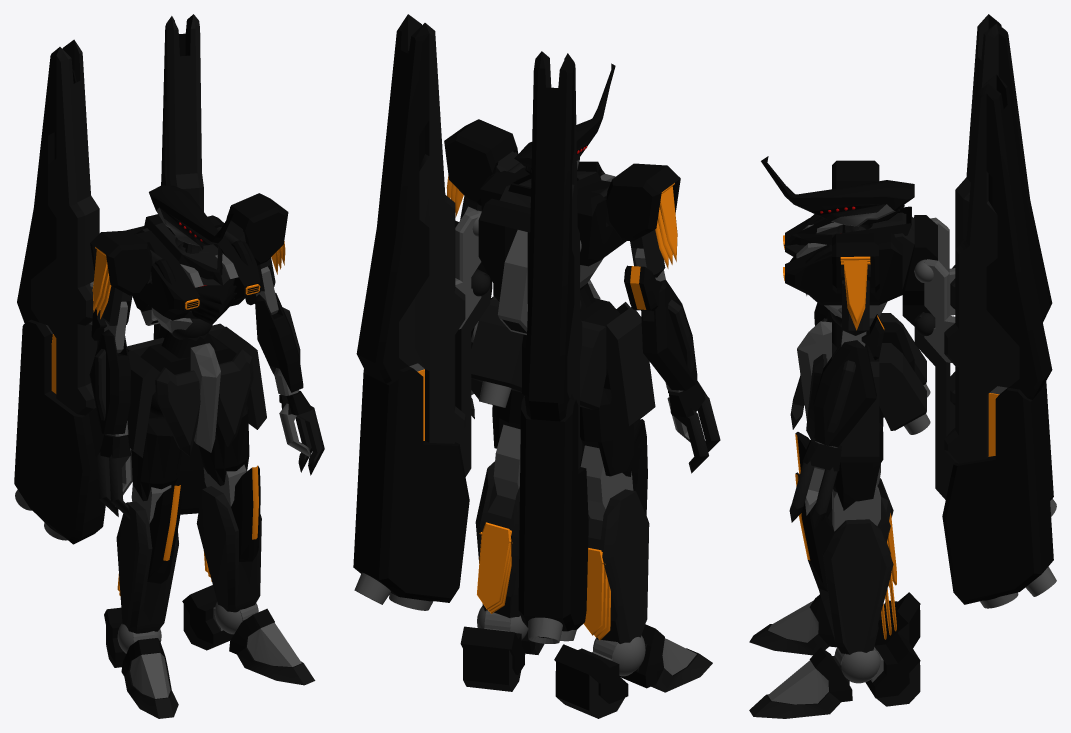
Rendered from finboss2.fbx.
3 views of the same model, side by side, from view 1: azimuth 30°, elevation 25°; view 2: azimuth 150°, elevation 25°; view 3: azimuth 270°, elevation 25° (orthographic). The views are drawn at different scales.
Parts seen in each view (by area): view 1: AICan, Line097, MainBall, Line113, Line154, AICan001, TopCan, Line155, Line143, Cone016, Line047, Line077 (+31 smaller); view 2: Line139, TopCan, TopCan001, Line097, AICan001, Line113, Line127, MainBall, Line148, Line047, Line138, Line156 (+28 smaller); view 3: Line139, AICan001, TopCan001, Line154, MainBall, Line155, Line129, TopCan, AICan, Line136, Line143, Downjok001 (+29 smaller).
Boxes of the visible parts, <box> form: AICan: <box>31,40,99,415</box>; Line097: <box>14,319,105,544</box>; MainBall: <box>135,214,261,339</box>; Line113: <box>116,485,183,633</box>; Line154: <box>196,465,261,612</box>; AICan001: <box>164,14,203,211</box>; TopCan: <box>17,39,74,323</box>; Line155: <box>229,608,315,685</box>; Line143: <box>121,638,178,718</box>; Cone016: <box>131,391,181,501</box>; Line047: <box>90,230,152,295</box>; Line077: <box>155,367,200,456</box>; Line139: <box>353,366,469,610</box>; TopCan: <box>524,51,574,421</box>; TopCan001: <box>356,14,429,383</box>; Line097: <box>518,395,588,643</box>; AICan001: <box>399,14,465,443</box>; Line113: <box>588,419,649,643</box>; Line127: <box>605,307,655,434</box>; MainBall: <box>480,161,626,290</box>; Line148: <box>554,644,628,718</box>; Line047: <box>606,163,680,241</box>; Line138: <box>444,119,518,205</box>; Line156: <box>460,626,525,691</box>; Line139: <box>942,387,1056,608</box>; AICan001: <box>944,74,1019,463</box>; TopCan001: <box>986,74,1052,399</box>; Line154: <box>795,472,893,654</box>; MainBall: <box>784,206,914,327</box>; Line155: <box>749,647,852,718</box>; Line129: <box>813,340,876,446</box>; TopCan: <box>988,14,1052,322</box>; AICan: <box>950,14,998,405</box>; Line136: <box>879,343,926,430</box>; Line143: <box>749,594,837,655</box>; Downjok001: <box>914,312,955,499</box>.
Size of the model in its own units: 226 by 589 by 262.
